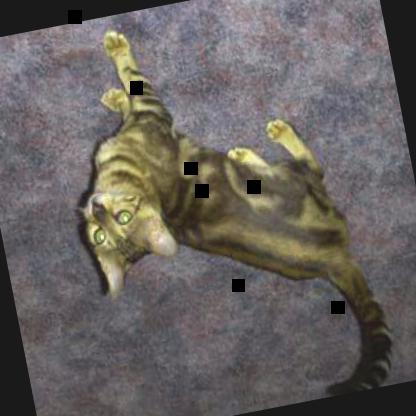cat: (46, 0, 404, 415)
